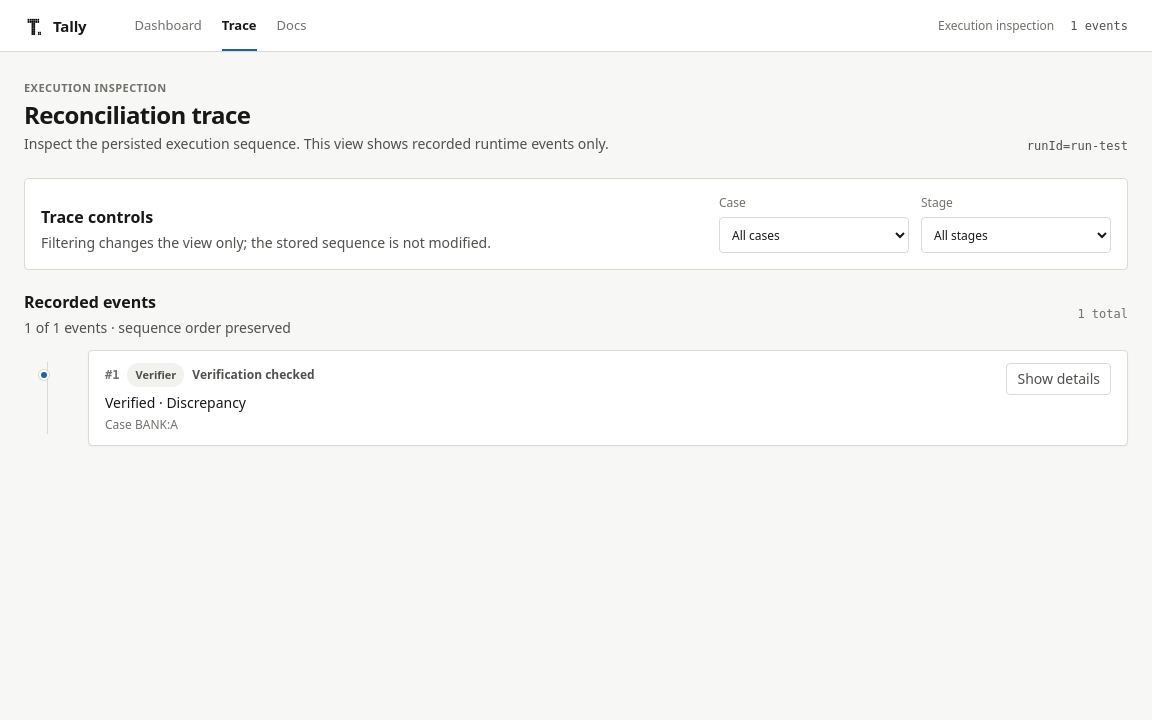
Scenario: T032 reconciliation trace › renders verified relationship details from the persisted verifier union
Expected: the text "Verification checked" is shown, [192,367,315,383]
What coordinates should you click on to do the following:
click the button "Show details"
I would click on:
 (1059, 379)
Its box is [1006,363,1111,395].
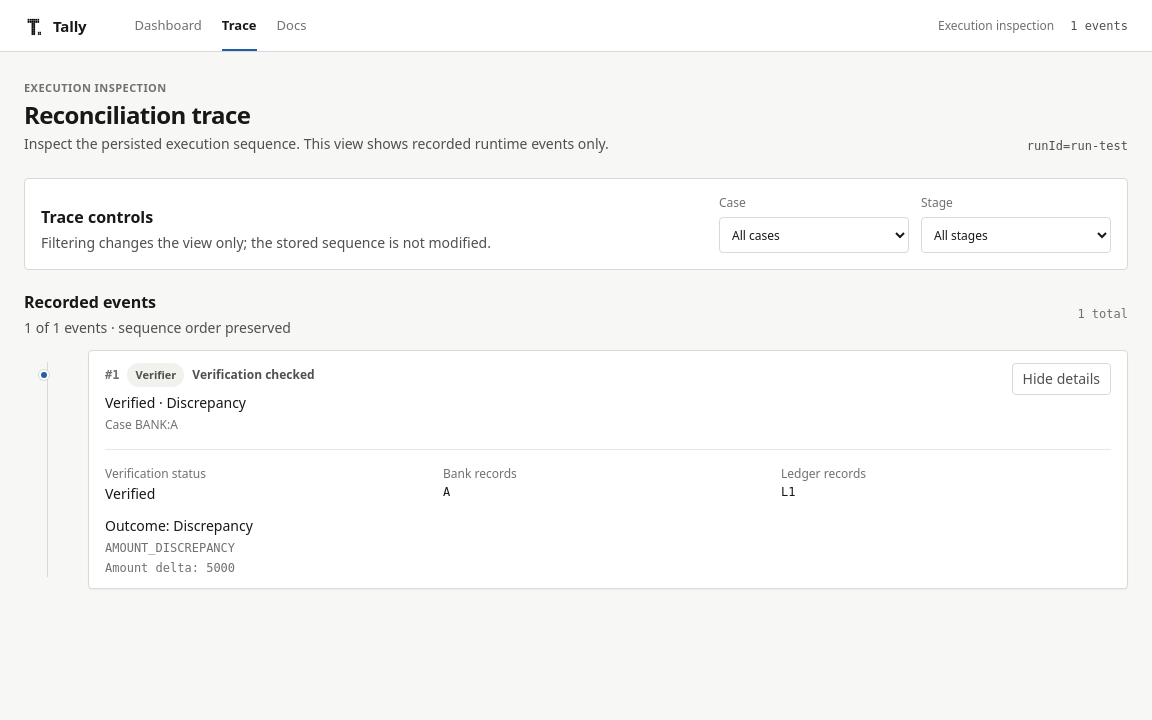
Expected: the text "Verified" is shown, [105,484,155,503]
Expected: the text "A" is shown, [443,485,450,499]
Expected: the text "L1" is shown, [781,485,796,499]
